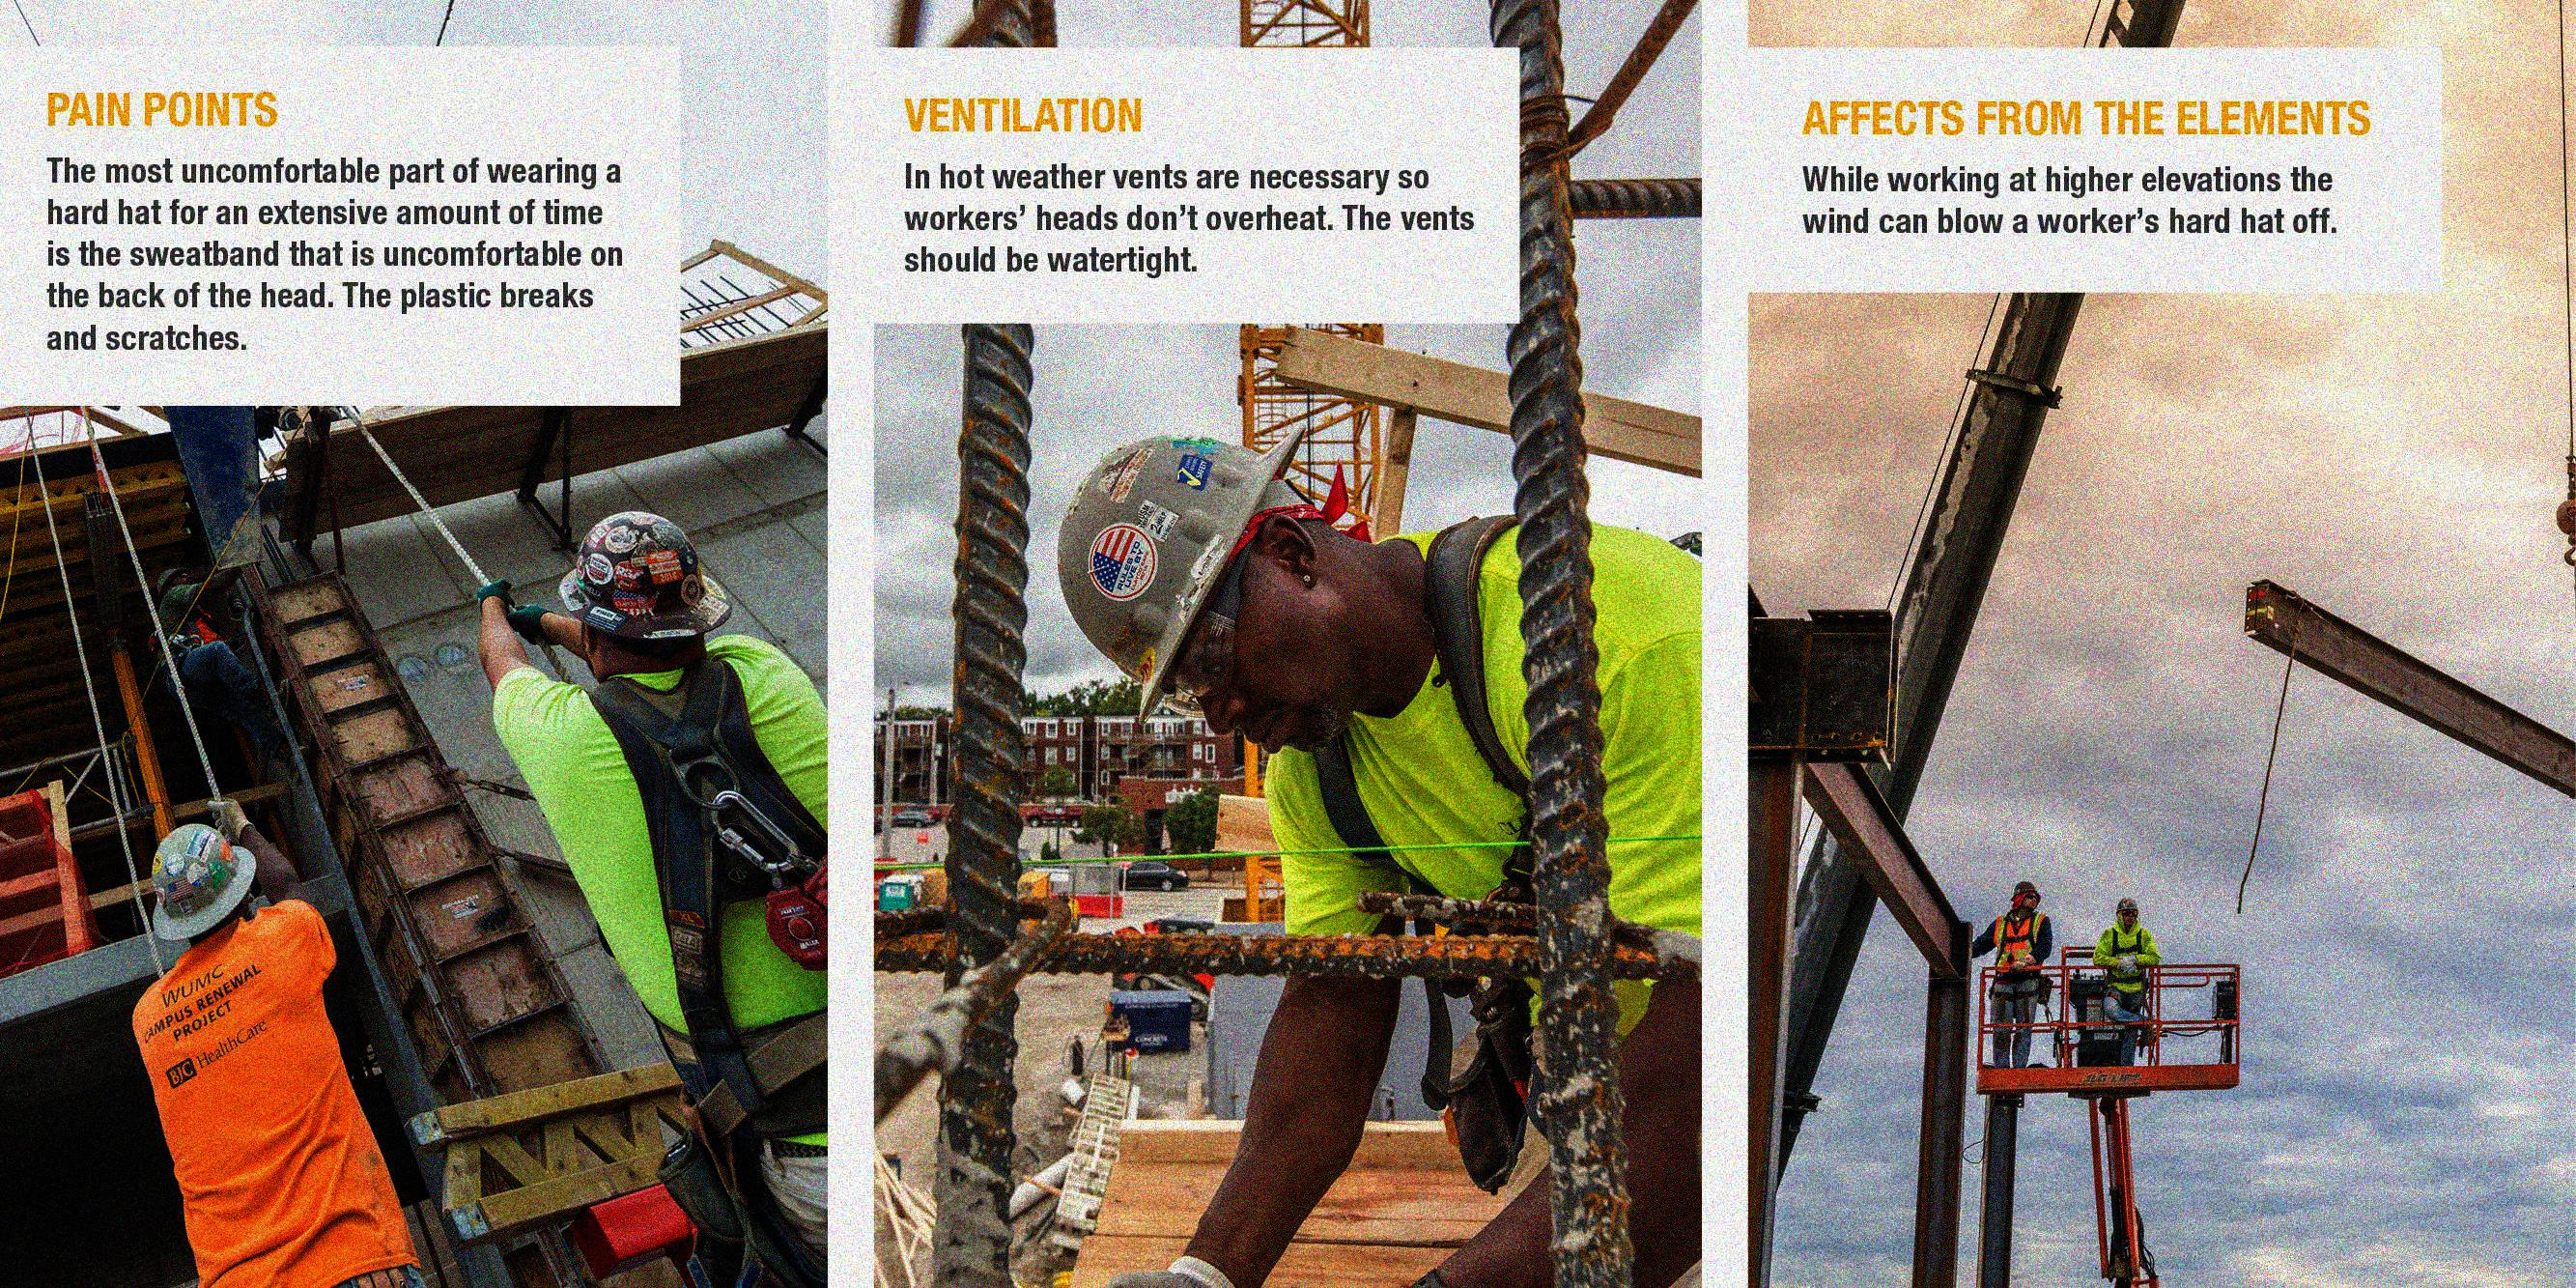helmet: (1055, 430, 1378, 761), (550, 508, 739, 677), (141, 820, 273, 938), (153, 565, 199, 605), (2012, 881, 2039, 912), (2116, 895, 2141, 925)
